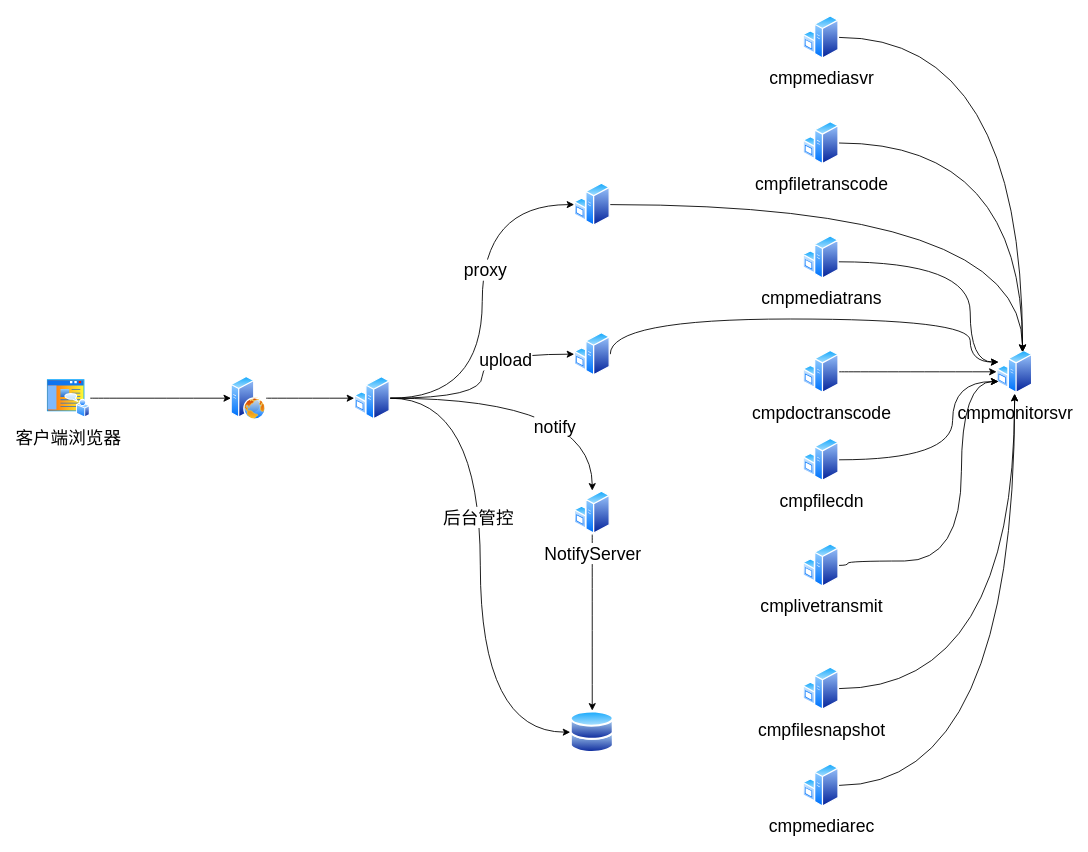
Some shapes in this 1088 by 852 pixel diagram are drawn without their labels. Here are the shapes that lost their labels. From the top down, the centre of each, then its label:
the point at 592,204: cmpmediagw
the point at 592,354: cmpfudsvr
the point at 248,398: nginx
the point at 372,398: cmpapi
the point at 592,731: cmp database
